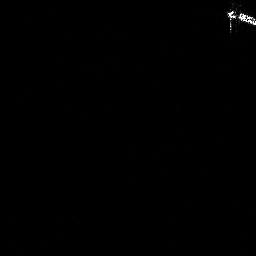ship: (226, 8, 256, 34)
